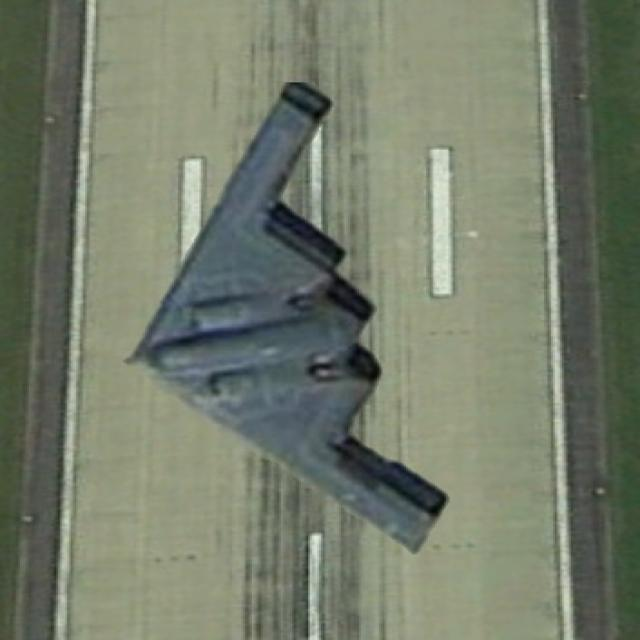B-2_TopDown: (120, 77, 453, 554)
